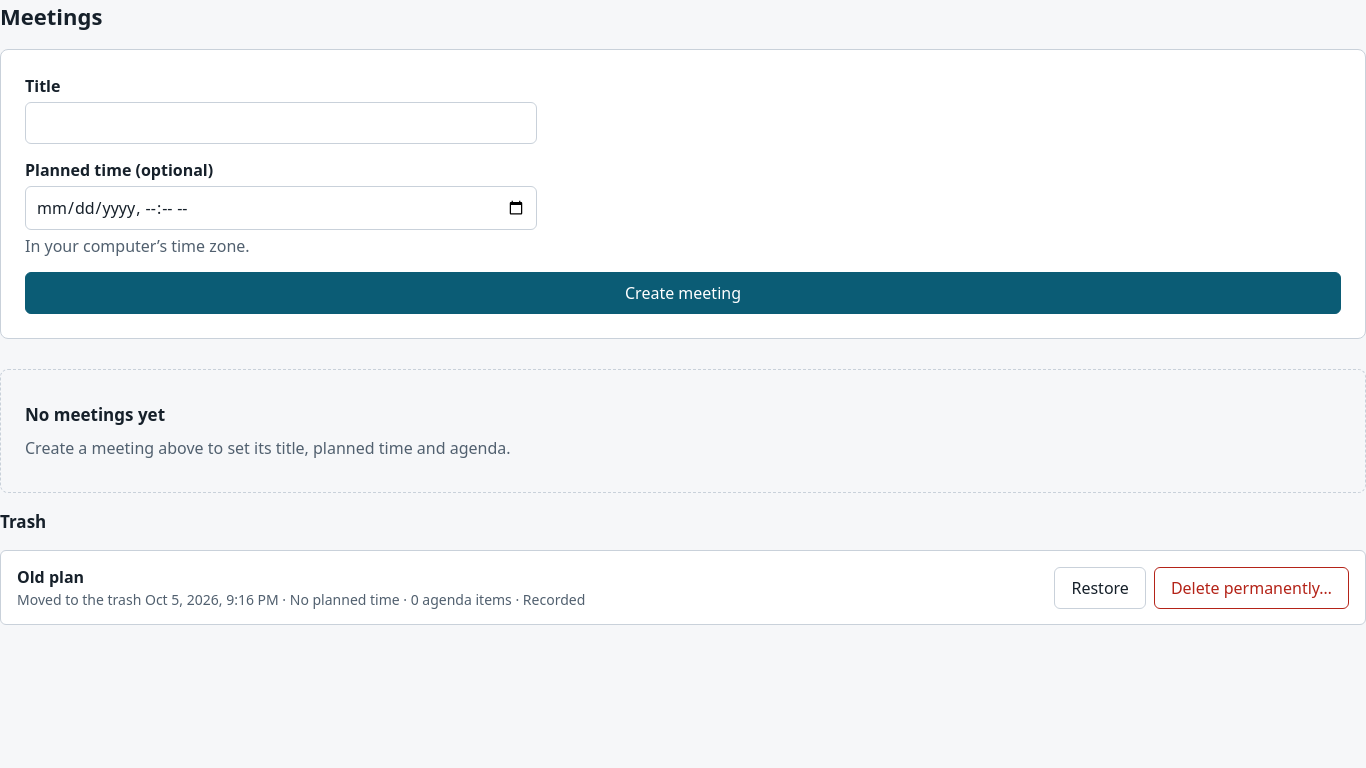
it: permanent deletion is a separate confirmation that says it cannot be undone
Click the button with aria-label "Permanently delete Old plan".
click(1251, 588)  # box [1154, 566, 1349, 608]
(page scrolled)
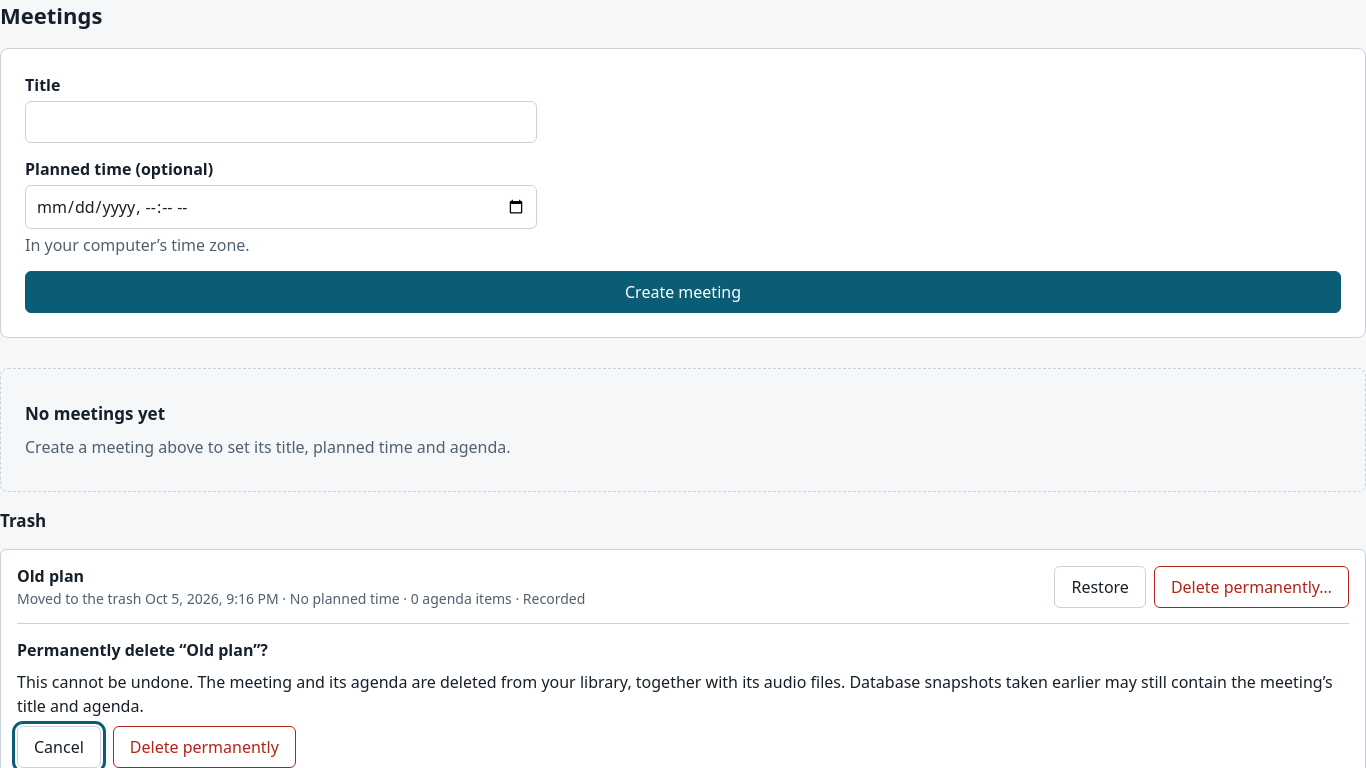
Now the element "Permanently delete “Old plan”?" shows "This cannot be undone.", box [17, 671, 627, 693]
Now the element "Permanently delete “Old plan”?" shows "together with its audio files", box [627, 671, 841, 693]
Click the button "Delete permanently".
click(204, 747)  # box [113, 726, 296, 767]
(page scrolled)
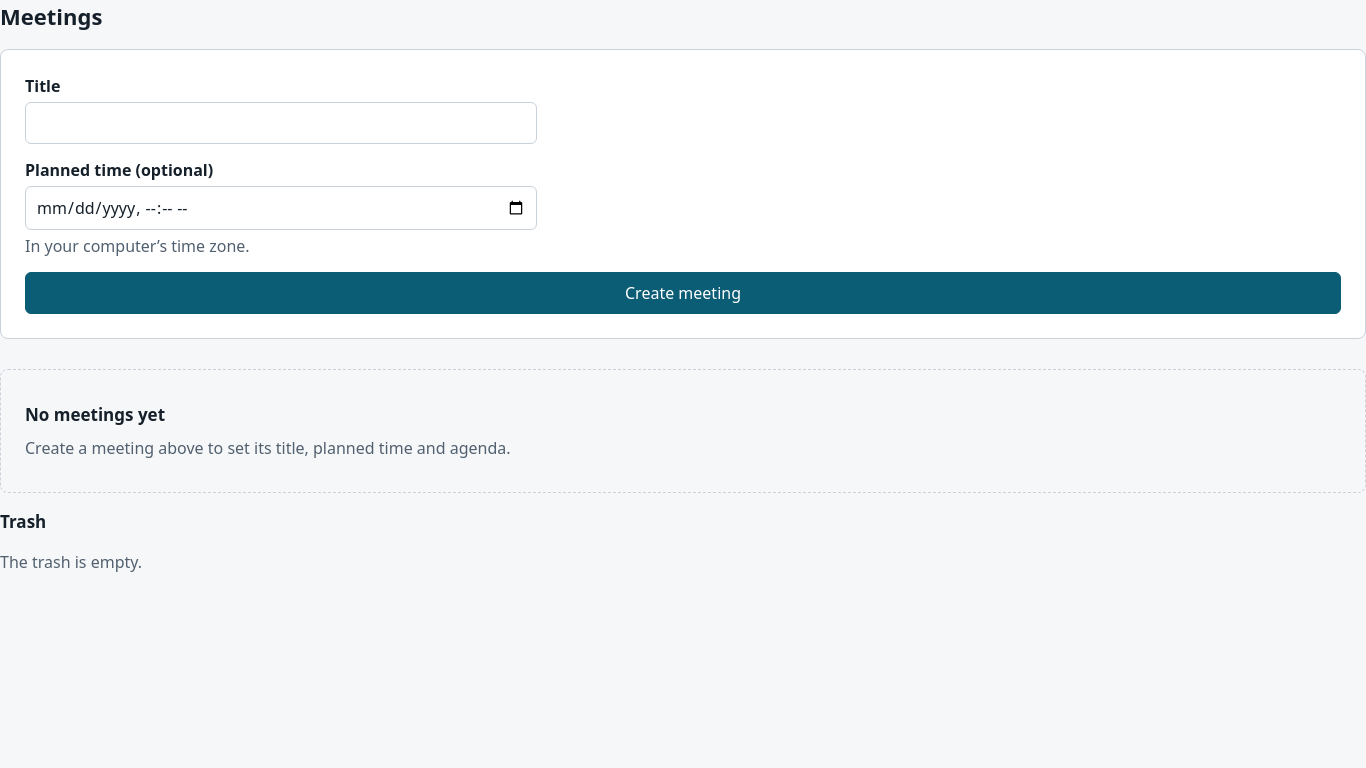
Now the text "The trash is empty." is shown, box [0, 551, 142, 573]
